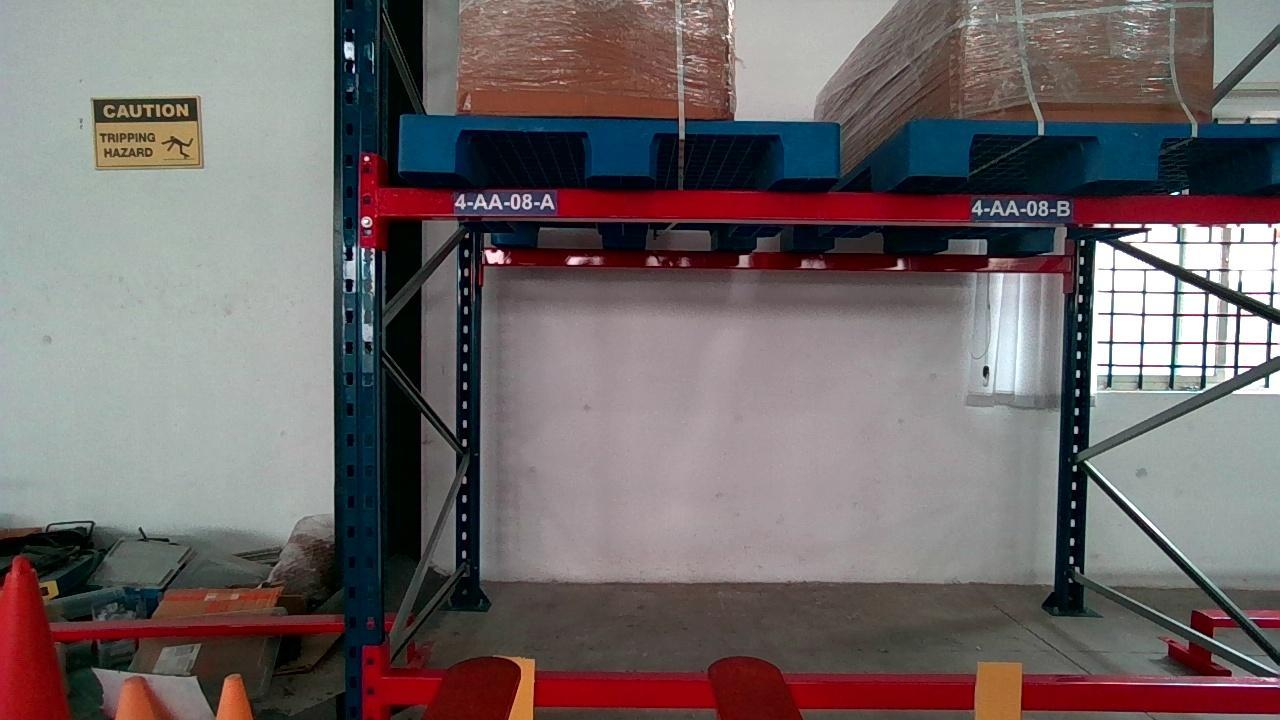h_rack: (380, 187, 1279, 225), (388, 676, 1277, 712)
orange_strip: (975, 661, 1019, 720)
small_pallet: (399, 115, 839, 177), (911, 120, 1279, 182)
